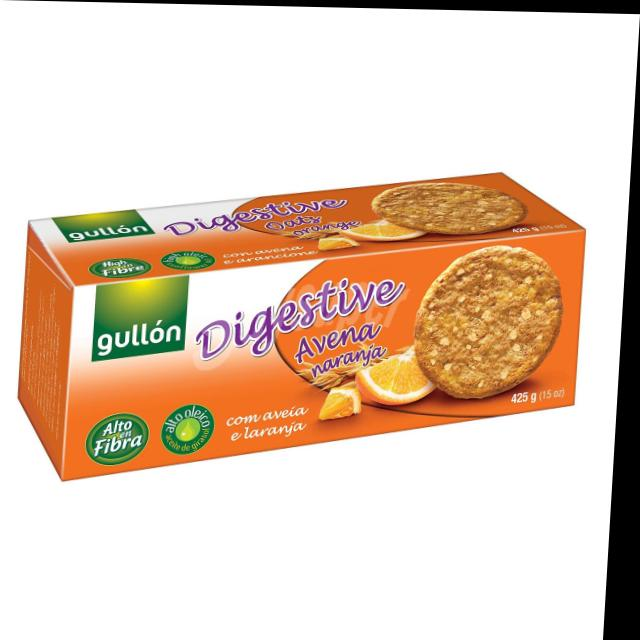Caja: (0, 123, 595, 492)
